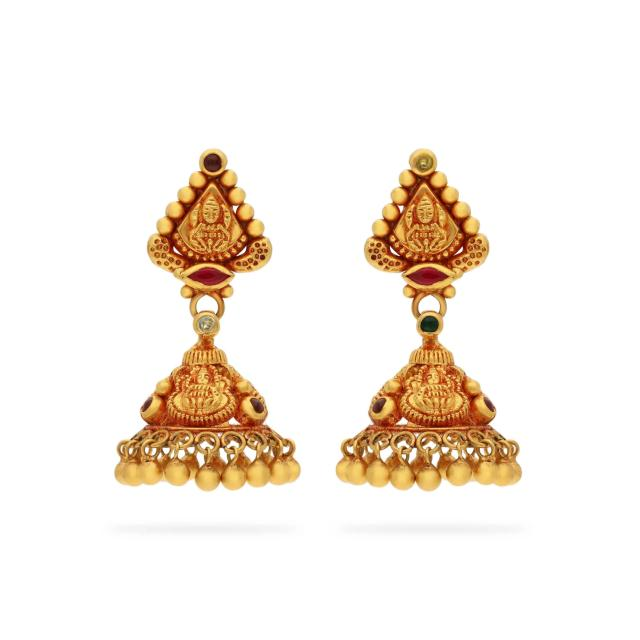missing gem: (413, 153, 433, 173), (197, 316, 217, 335)
